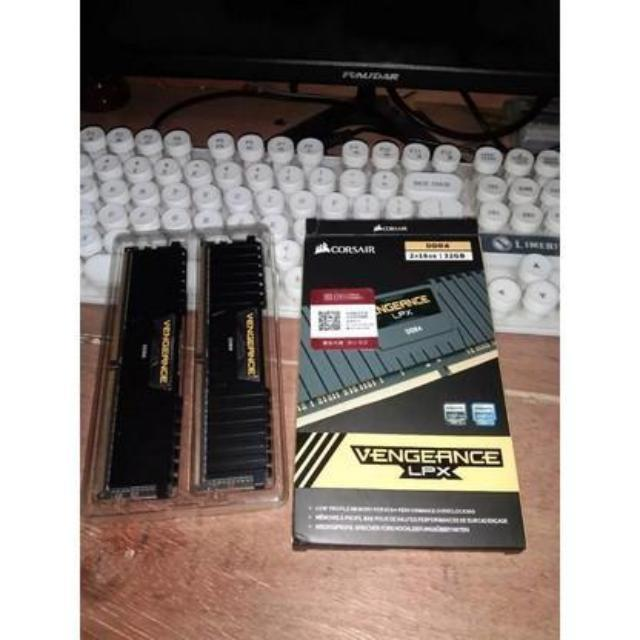RAM: (86, 232, 189, 500), (187, 243, 279, 489)
